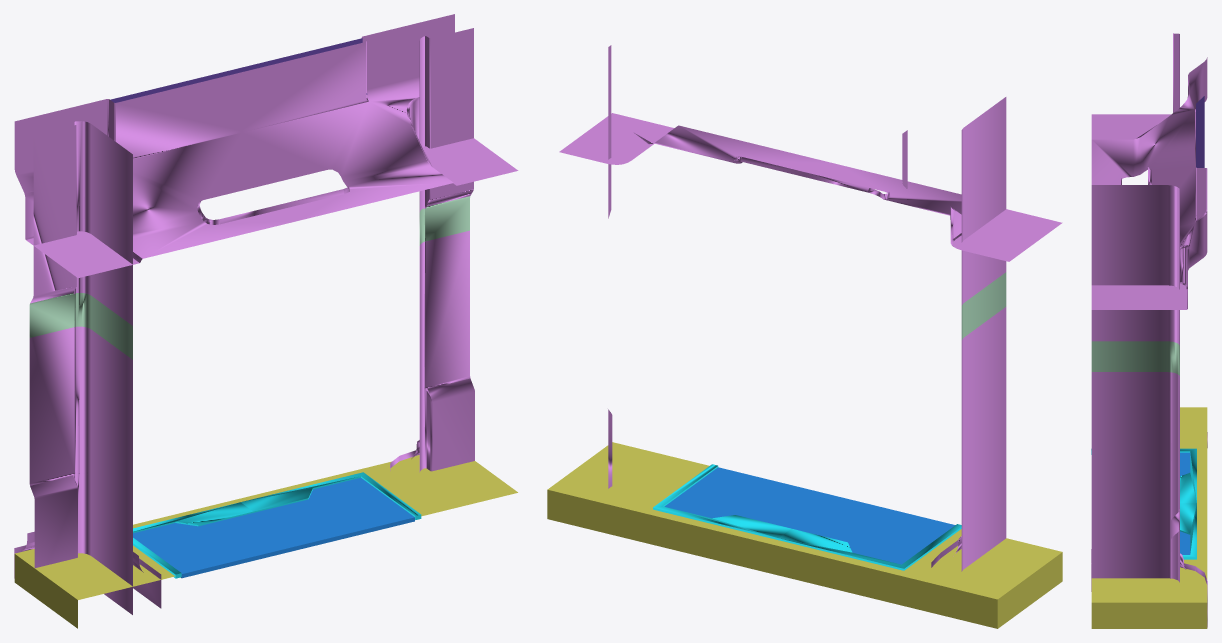
The model's file is roomsm_wall_door_04x01x04_a_lod1.glb.
3 renders of one model, left to right at view 1: azimuth 30°, elevation 25°; view 2: azimuth 150°, elevation 25°; view 3: azimuth 270°, elevation 25°, orthographic. The views are drawn at different scales.
Size of the model in its own units: 4 by 4 by 1.01.
